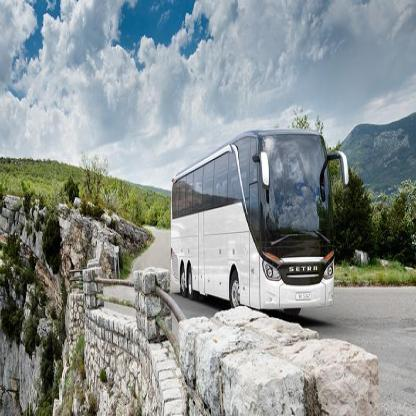Bus: (167, 130, 341, 328)
